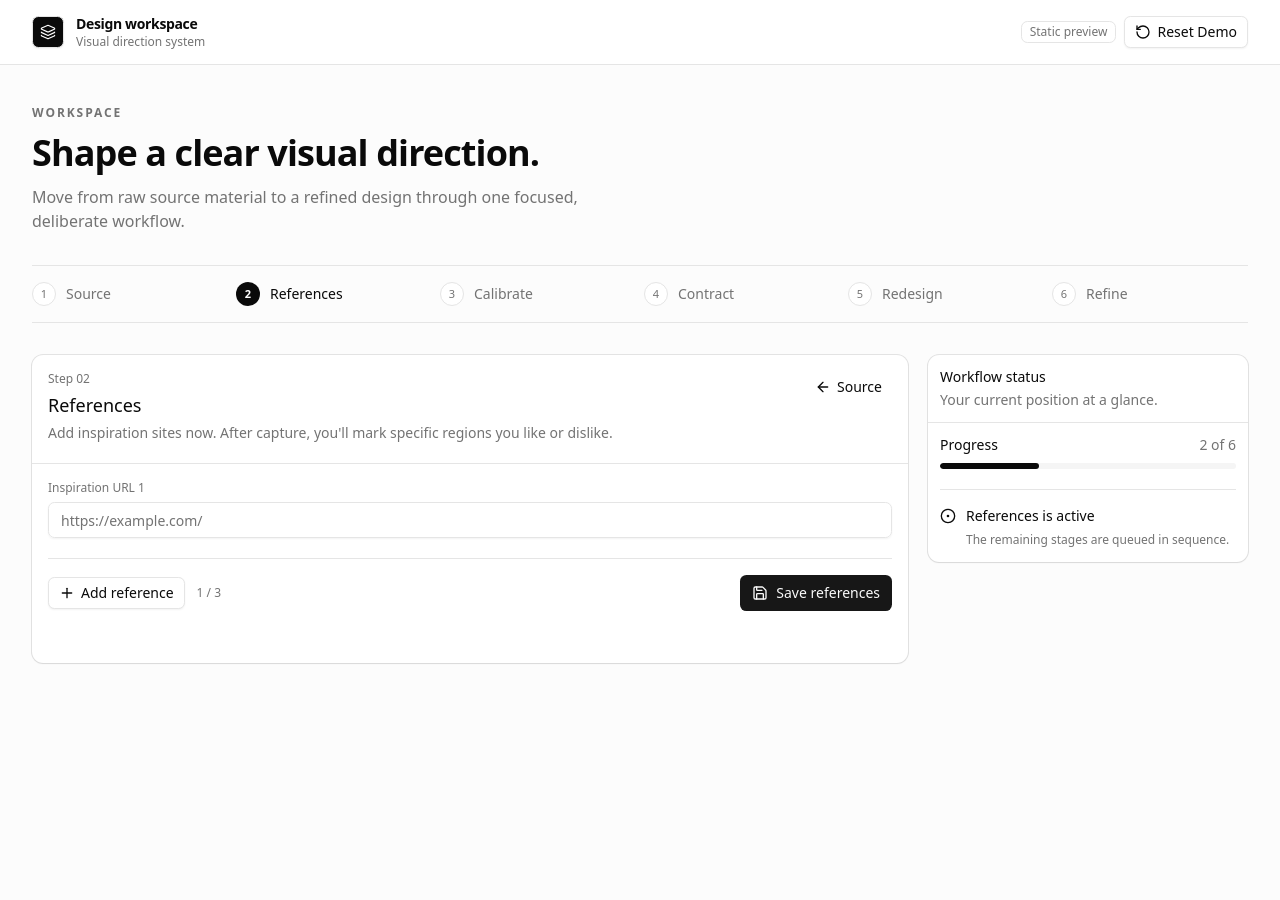
Reset Demo › reports partial cleanup failure while keeping the reset Source state
Click the button "Reset Demo".
click(1186, 32)  # box left=1124, top=16, right=1248, bottom=48
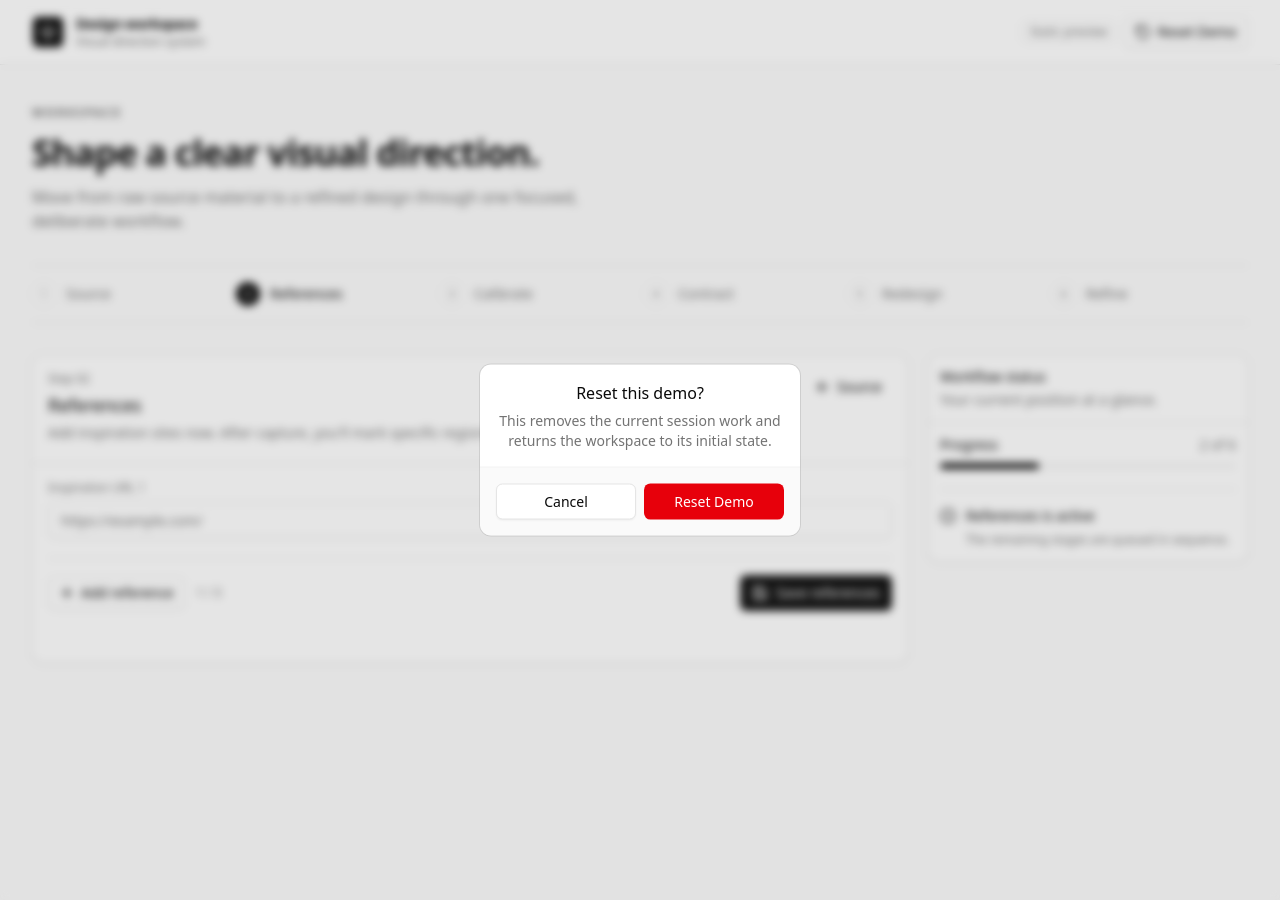
Click the button "Reset Demo".
click(714, 502)  # box left=644, top=484, right=784, bottom=520
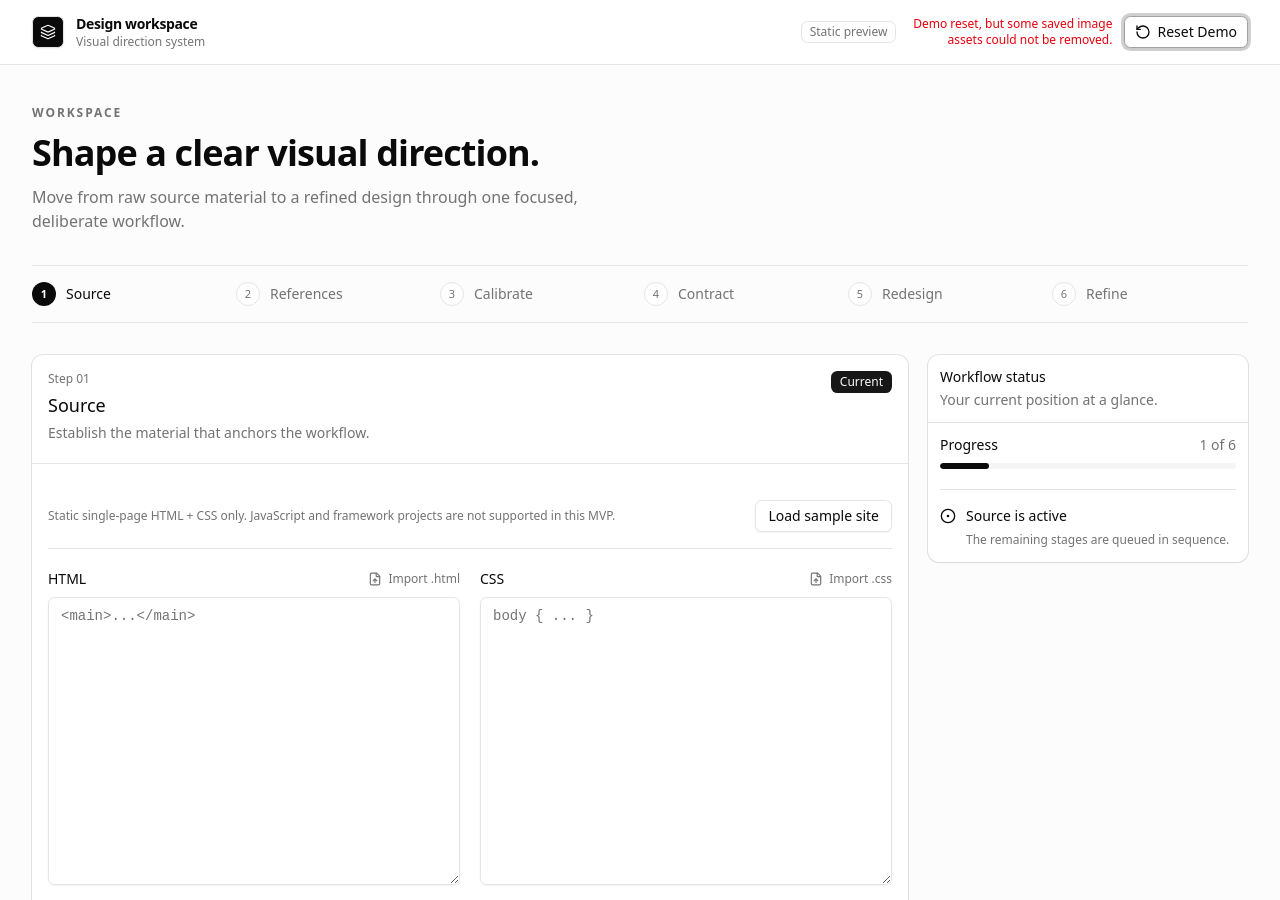
Expected: the list item "1 Source" is shown, left=32, top=282, right=111, bottom=306
Result: the message shows "some saved image assets could not be removed" at left=913, top=15, right=1112, bottom=48
